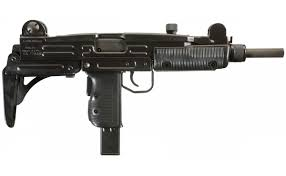gun: (1, 18, 284, 156)
